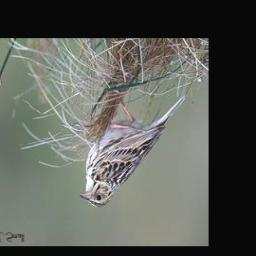Sparrow: (79, 93, 187, 209)
